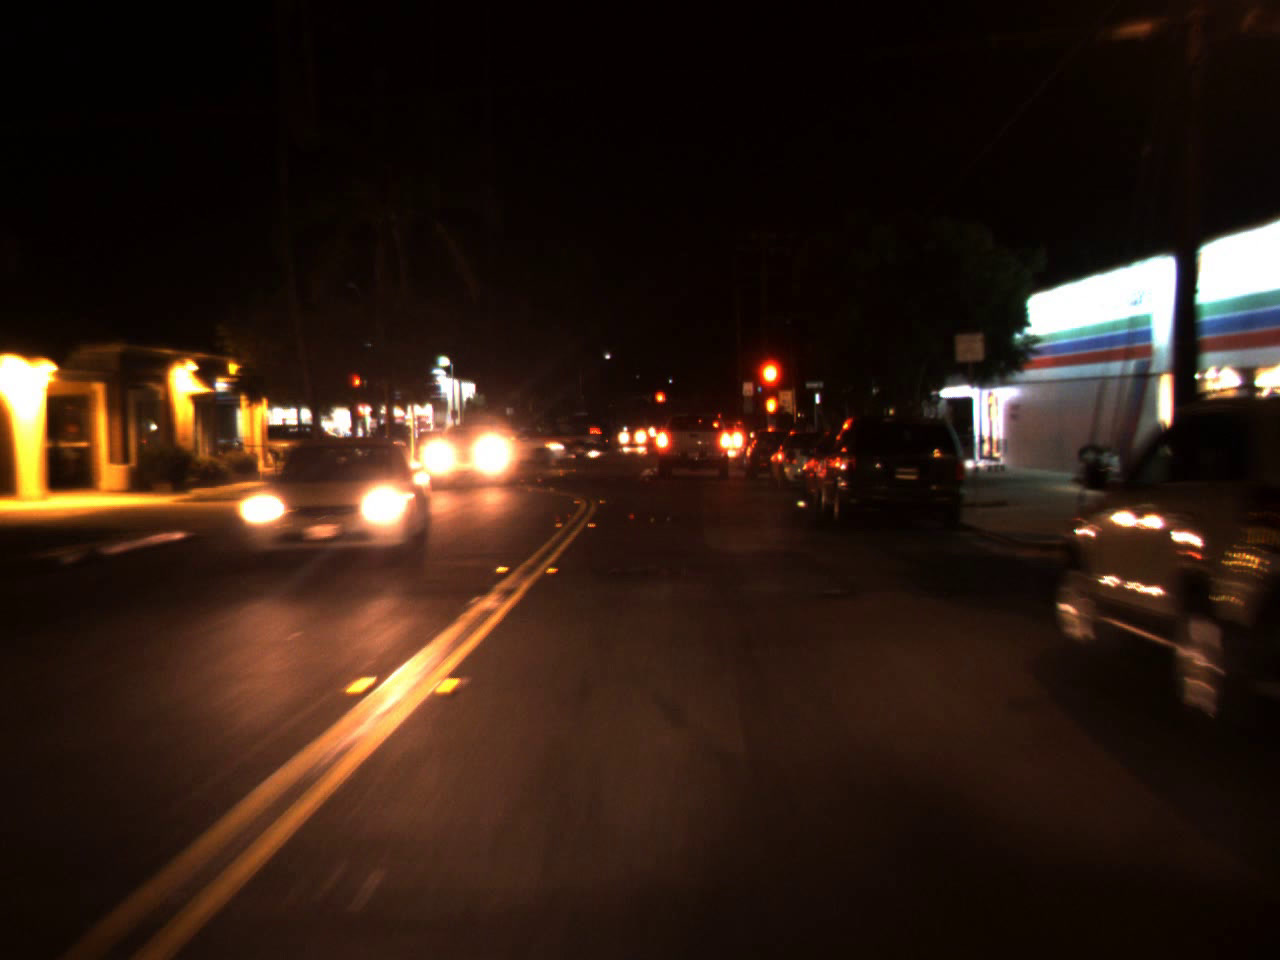stop: (753, 353, 784, 423), (653, 389, 666, 416), (351, 373, 361, 400)
